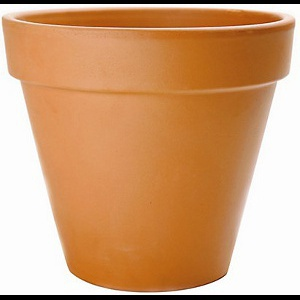flowerpot: (1, 7, 296, 291)
